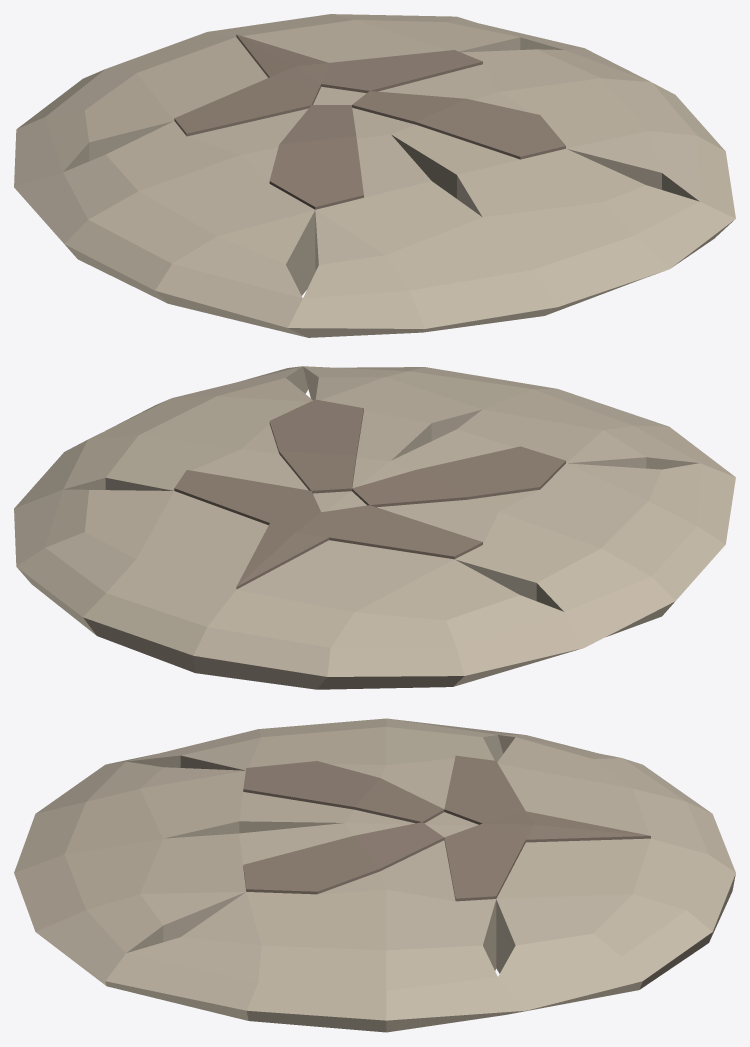
The model's file is fc60ea21-9f88-4049-bd1f-82dfe96b5d3a.glb.
3 renders of one model, top to bottom at view 1: azimuth 30°, elevation 25°; view 2: azimuth 150°, elevation 25°; view 3: azimuth 270°, elevation 25°, orthographic.
Parts seen in each view (by area): view 1: Geo_SandDollar; view 2: Geo_SandDollar; view 3: Geo_SandDollar.
Boxes of the visible parts, box(x1,y1,x2,y2) form: Geo_SandDollar: box(14, 14, 735, 337); Geo_SandDollar: box(14, 366, 735, 689); Geo_SandDollar: box(14, 718, 735, 1032).
Size of the model in its own units: 61.8 by 7.84 by 63.83.
1 material, 1 textured.
